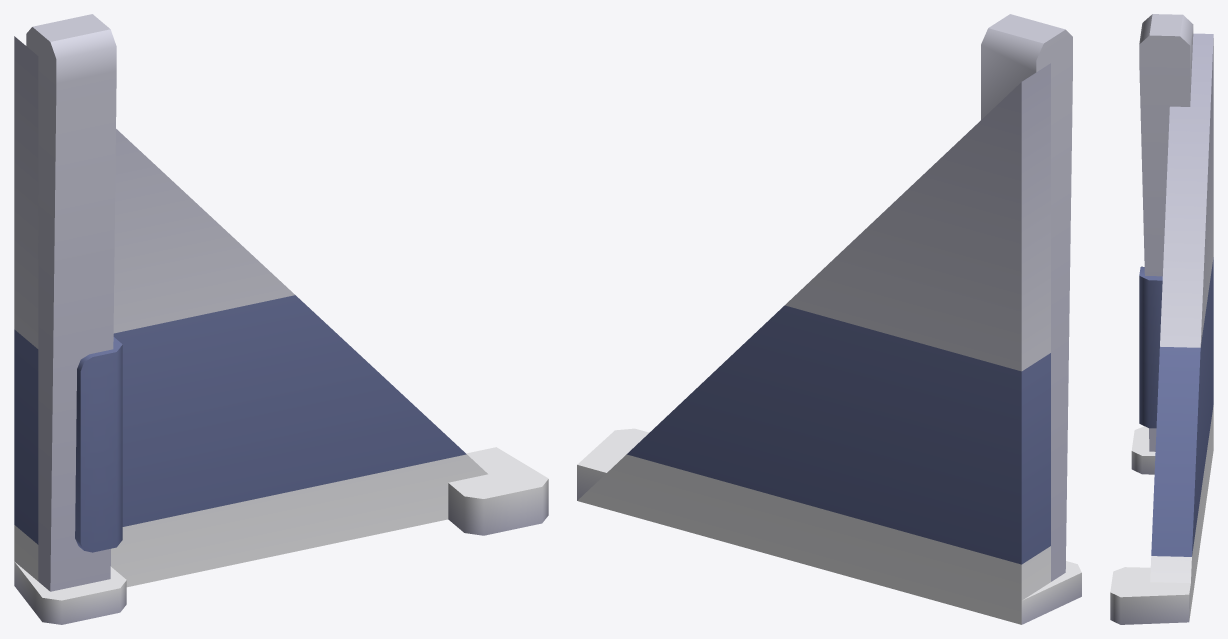
File: template-wall-stairs.002_lev4.glb
The picture shows the model from 3 angles, left to right: view 1: azimuth 30°, elevation 25°; view 2: azimuth 150°, elevation 25°; view 3: azimuth 270°, elevation 25°; orthographic projection. The views are drawn at different scales.
Parts seen in each view (by area): view 1: template-wall-stairs.002_lev4; view 2: template-wall-stairs.002_lev4; view 3: template-wall-stairs.002_lev4.
Boxes of the visible parts, x1,y1,x2,y2 form: template-wall-stairs.002_lev4: (14,14,548,624); template-wall-stairs.002_lev4: (577,14,1081,624); template-wall-stairs.002_lev4: (1110,14,1213,624).
Bounding box in the file's own units: 12.58 × 14.1 × 3.04.
Materials: 1 (1 with a texture image).
